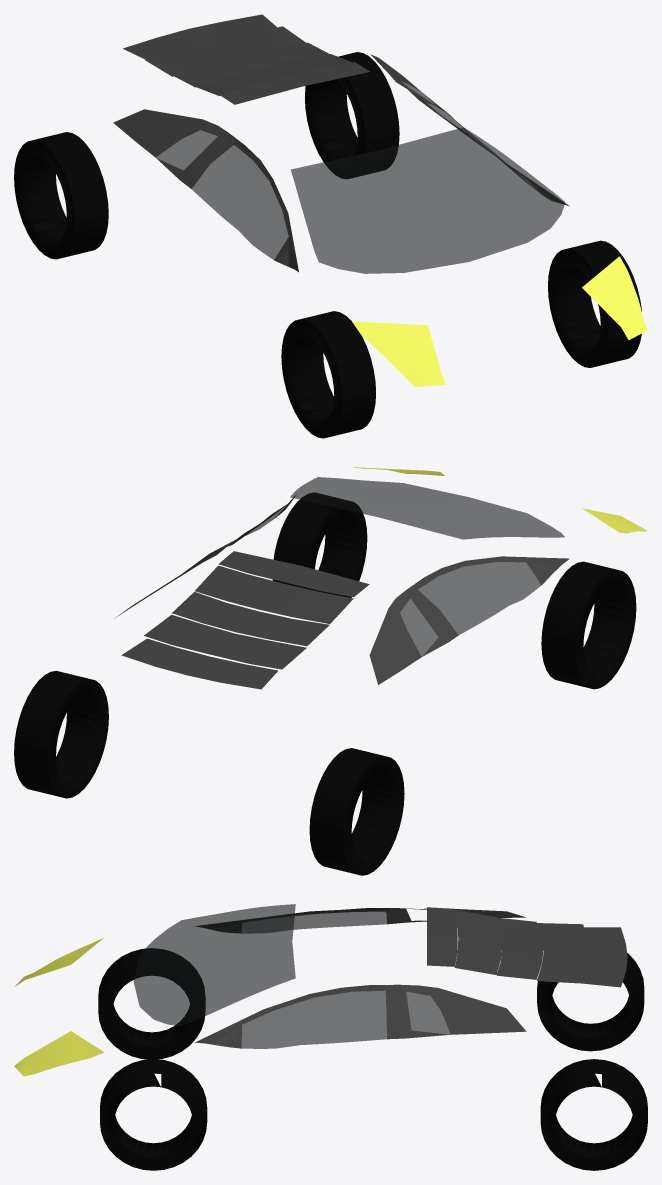
The model's file is CarParts.obj.
3 renders of one model, top to bottom at view 1: azimuth 30°, elevation 25°; view 2: azimuth 150°, elevation 25°; view 3: azimuth 270°, elevation 25°, orthographic. The views are drawn at different scales.
Parts seen in each view (by area): view 1: Chassi_Untitled.001, Roda2_Circle.008_Roda2_Circle.011, Roda2_Circle.007_Roda2_Circle.010, Roda2_Circle.009_Roda2_Circle.012, Roda2_Circle.010_Roda2_Circle.013; view 2: Chassi_Untitled.001, Roda2_Circle.008_Roda2_Circle.011, Roda2_Circle.009_Roda2_Circle.012, Roda2_Circle.007_Roda2_Circle.010, Roda2_Circle.010_Roda2_Circle.013; view 3: Chassi_Untitled.001, Roda2_Circle.010_Roda2_Circle.013, Roda2_Circle.009_Roda2_Circle.012, Roda2_Circle.008_Roda2_Circle.011, Roda2_Circle.007_Roda2_Circle.010, Roda2_Circle.005.
Boxes of the visible parts, box(x1,y1,x2,y2) form: Chassi_Untitled.001: box(113, 14, 647, 386); Roda2_Circle.008_Roda2_Circle.011: box(14, 132, 108, 259); Roda2_Circle.007_Roda2_Circle.010: box(281, 311, 375, 438); Roda2_Circle.009_Roda2_Circle.012: box(305, 52, 399, 178); Roda2_Circle.010_Roda2_Circle.013: box(548, 240, 641, 367); Chassi_Untitled.001: box(114, 467, 647, 689); Roda2_Circle.008_Roda2_Circle.011: box(309, 748, 404, 875); Roda2_Circle.009_Roda2_Circle.012: box(14, 671, 108, 798); Roda2_Circle.007_Roda2_Circle.010: box(541, 561, 636, 689); Roda2_Circle.010_Roda2_Circle.013: box(272, 492, 367, 597); Chassi_Untitled.001: box(14, 904, 627, 1076); Roda2_Circle.010_Roda2_Circle.013: box(100, 1059, 207, 1170); Roda2_Circle.009_Roda2_Circle.012: box(540, 1059, 647, 1170); Roda2_Circle.008_Roda2_Circle.011: box(537, 953, 644, 1051); Roda2_Circle.007_Roda2_Circle.010: box(98, 948, 205, 1059); Roda2_Circle.005: box(98, 963, 205, 1042).
Size of the model in its own units: 2.8 by 1.62 by 5.35.
